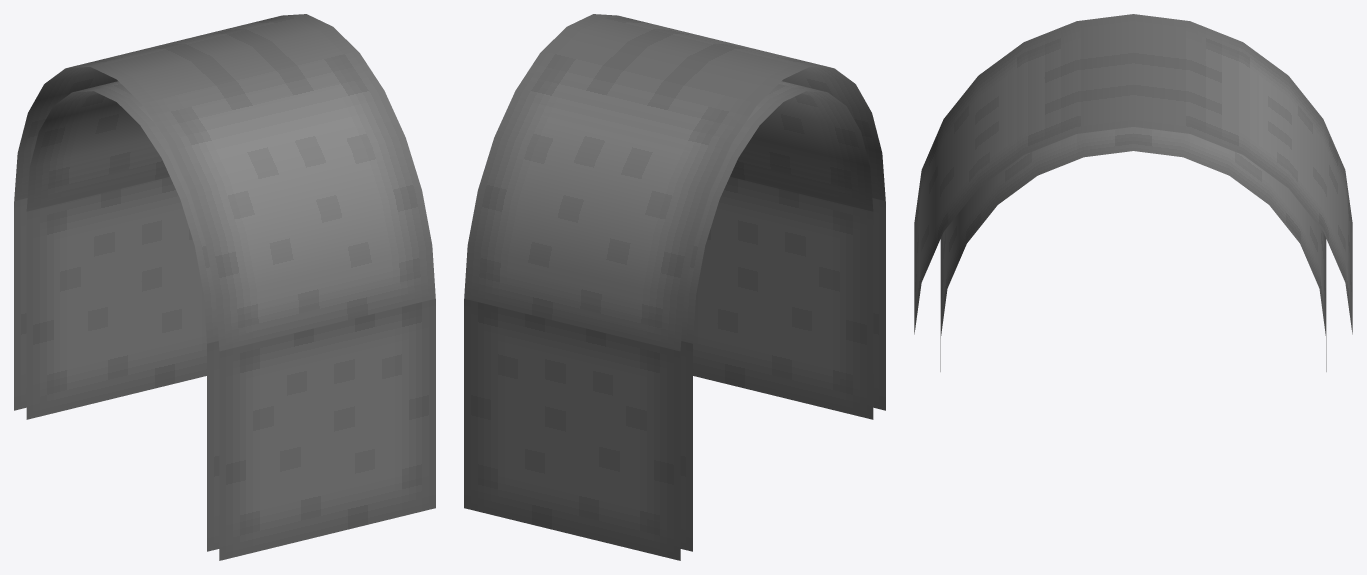
File: tunnel_hori_32x64.obj
3 renders of one model, left to right at view 1: azimuth 30°, elevation 25°; view 2: azimuth 150°, elevation 25°; view 3: azimuth 270°, elevation 25°, orthographic. The views are drawn at different scales.
Visible parts, largest first — view 1: Door.Arch.016_TunnelPiece.001; view 2: Door.Arch.016_TunnelPiece.001; view 3: Door.Arch.016_TunnelPiece.001.
Boxes of the visible parts, bbox=[...] form: Door.Arch.016_TunnelPiece.001: bbox=[14, 14, 435, 560]; Door.Arch.016_TunnelPiece.001: bbox=[464, 14, 885, 560]; Door.Arch.016_TunnelPiece.001: bbox=[914, 14, 1352, 371].
Size of the model in its own units: 32 by 57.41 by 52.57.
